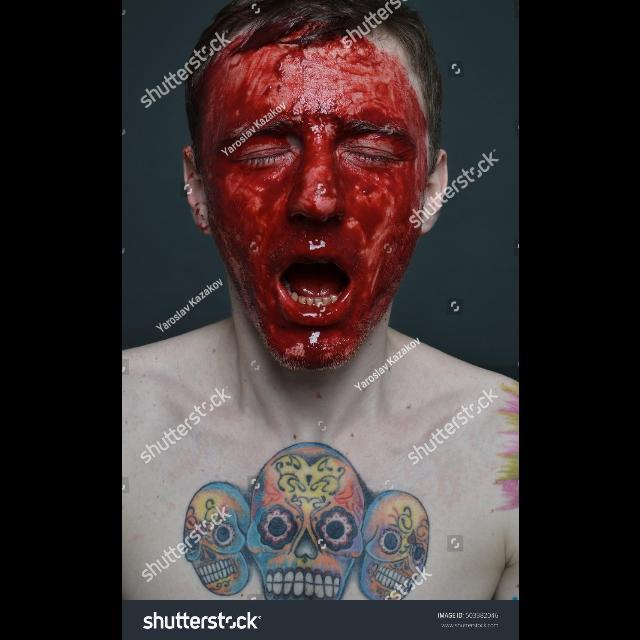blood: (194, 28, 427, 369), (186, 201, 209, 234), (181, 146, 200, 185)
